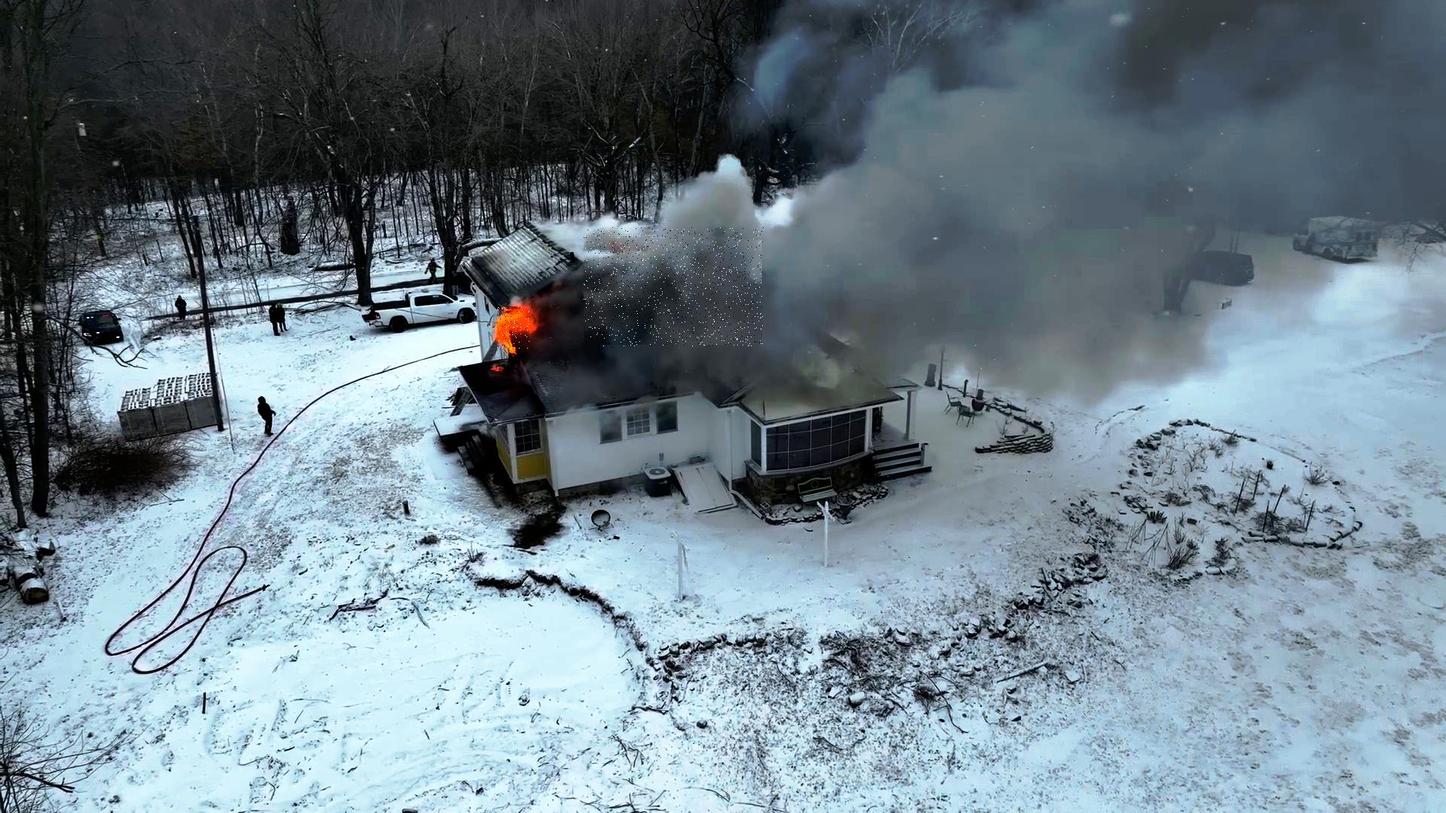fire: (497, 307, 530, 350)
smoke: (584, 228, 764, 347)
